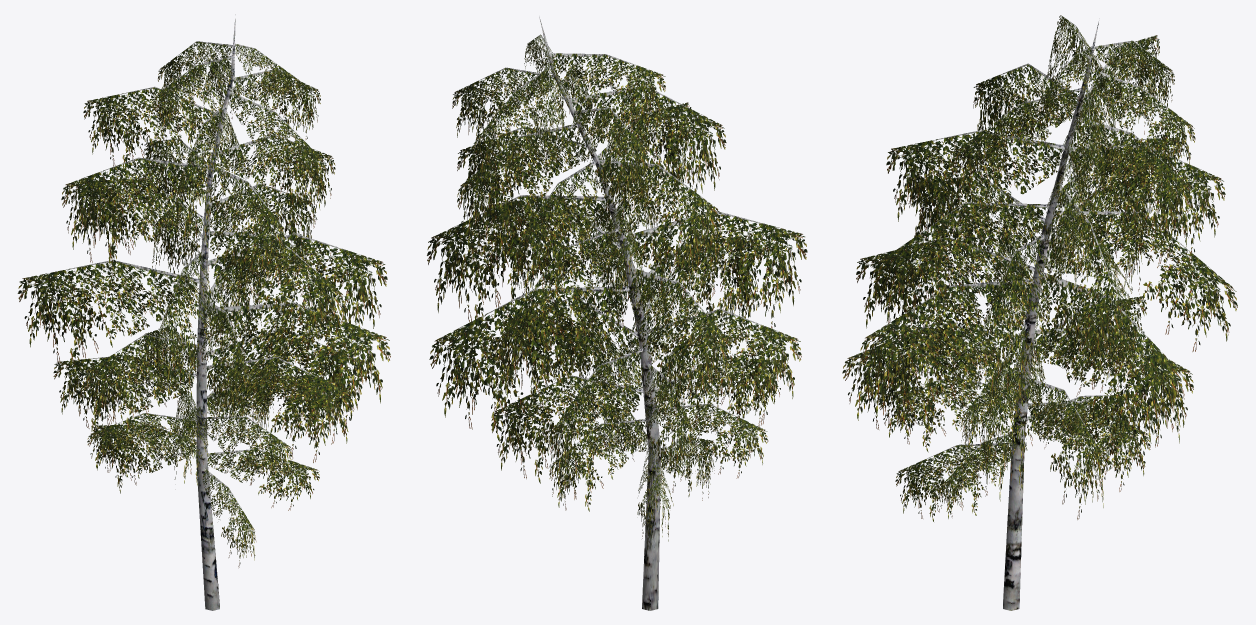
The model's file is birch_03.glb.
3 renders of one model, left to right at view 1: azimuth 30°, elevation 25°; view 2: azimuth 150°, elevation 25°; view 3: azimuth 270°, elevation 25°, orthographic. The views are drawn at different scales.
Parts seen in each view (by area): view 1: Birch_03; view 2: Birch_03; view 3: Birch_03.
Part boxes in pixels (box(x1,y1,x2,y2)): Birch_03: box(17, 14, 390, 610); Birch_03: box(427, 16, 807, 610); Birch_03: box(842, 15, 1237, 610).
Bounding box in the file's own units: 2.34 × 4.08 × 2.39.
2 materials, 2 textured.
